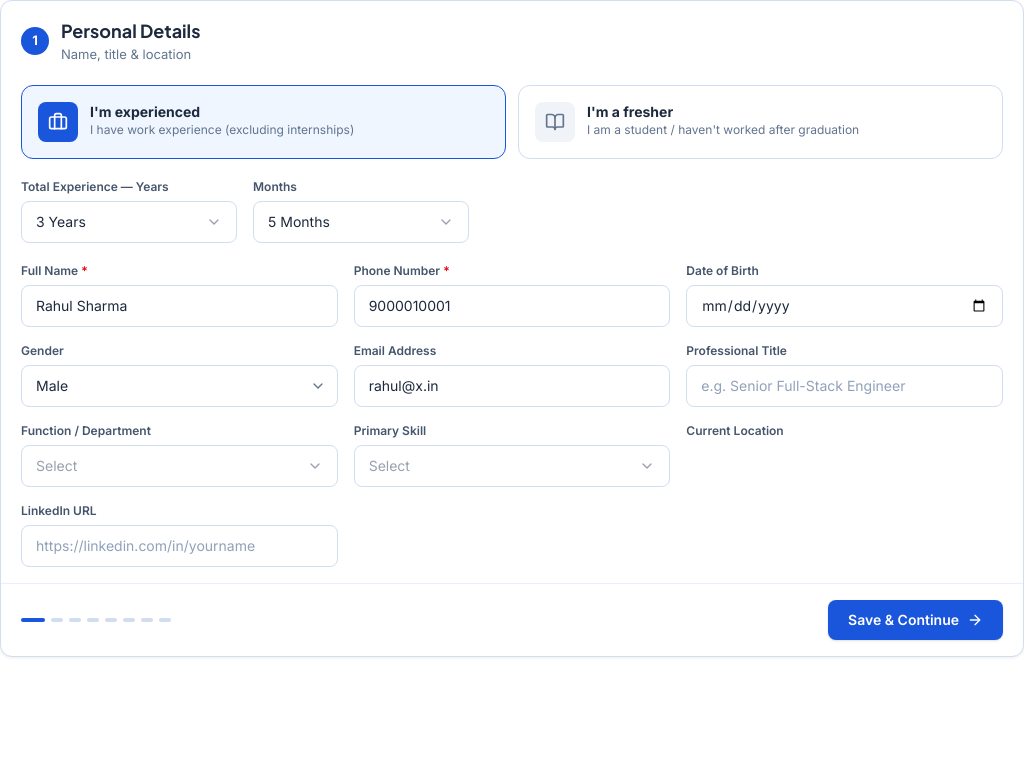
Test: PersonalStep save errors › shows the API's reason, naming the field by its label
What coordinates should you click on to do the following:
click the button "Save & Continue"
I would click on:
 (916, 620)
Its box is x1=828 y1=600 x2=1003 y2=640.
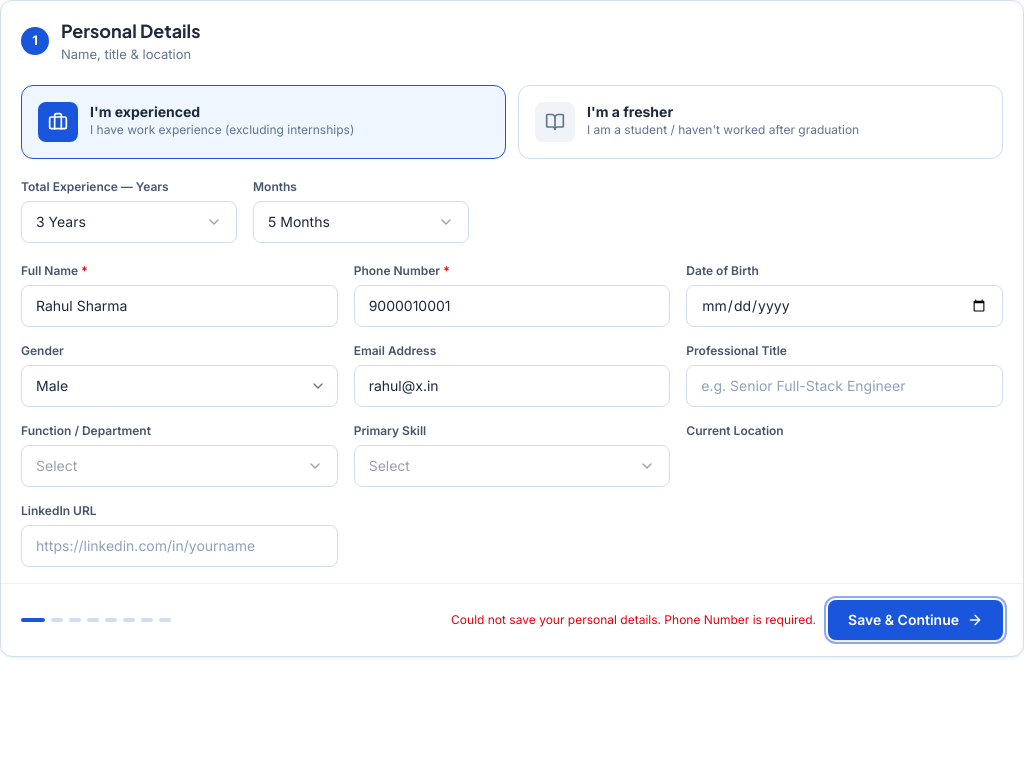
Result: the text "Could not save your personal details. Phone Number is required." is shown at x1=451 y1=612 x2=816 y2=628
